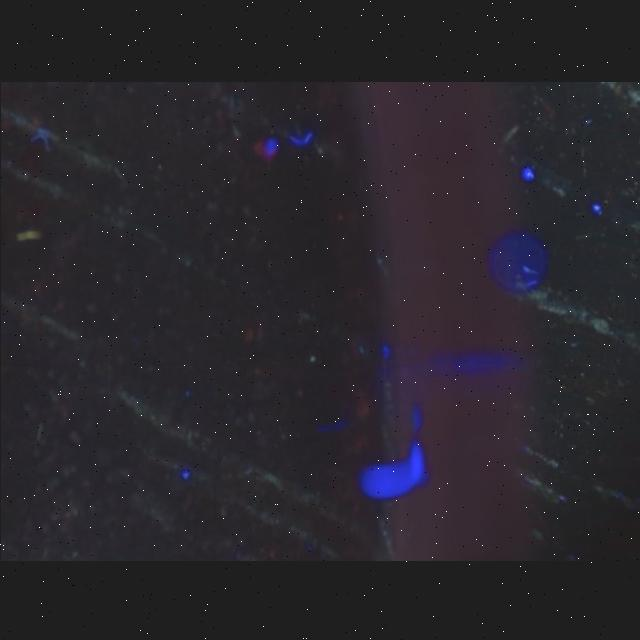microbeads: (18, 228, 40, 242)
